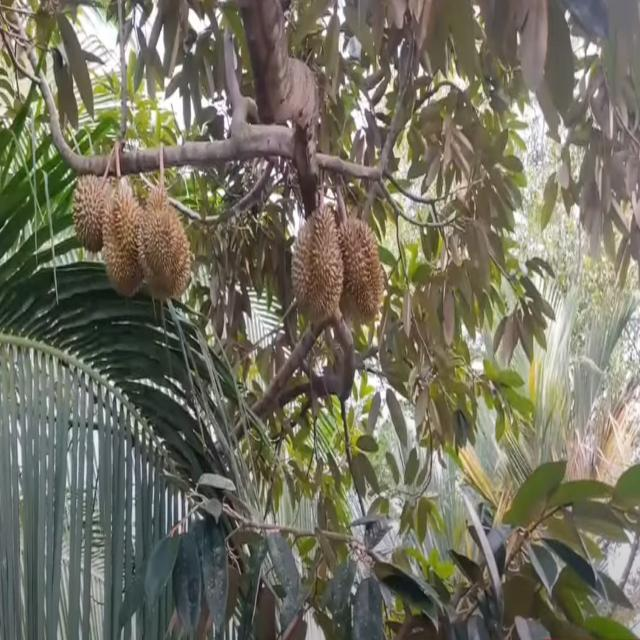mature: (290, 208, 344, 322), (138, 187, 196, 293), (333, 218, 385, 330), (101, 190, 147, 302), (72, 174, 114, 259)
